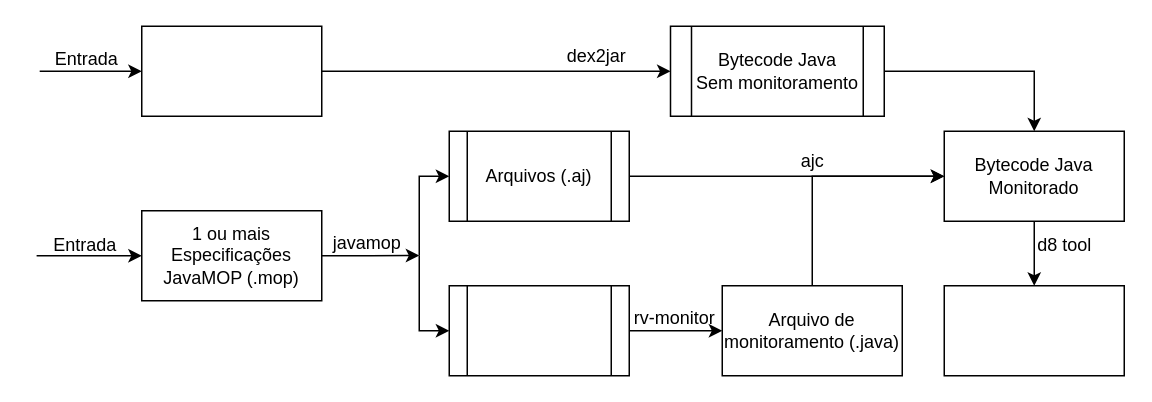
Image size: 1152x402. Some labels were removed from this diagram. Here are the shapes that lost their labels. From the top down, the box of each, then its label:
(140, 25, 322, 116): Aplicativo (.apk)
(448, 284, 629, 376): Arquivos (.rvm)
(943, 284, 1124, 376): Aplicativo (.apk) Com monitoramento
